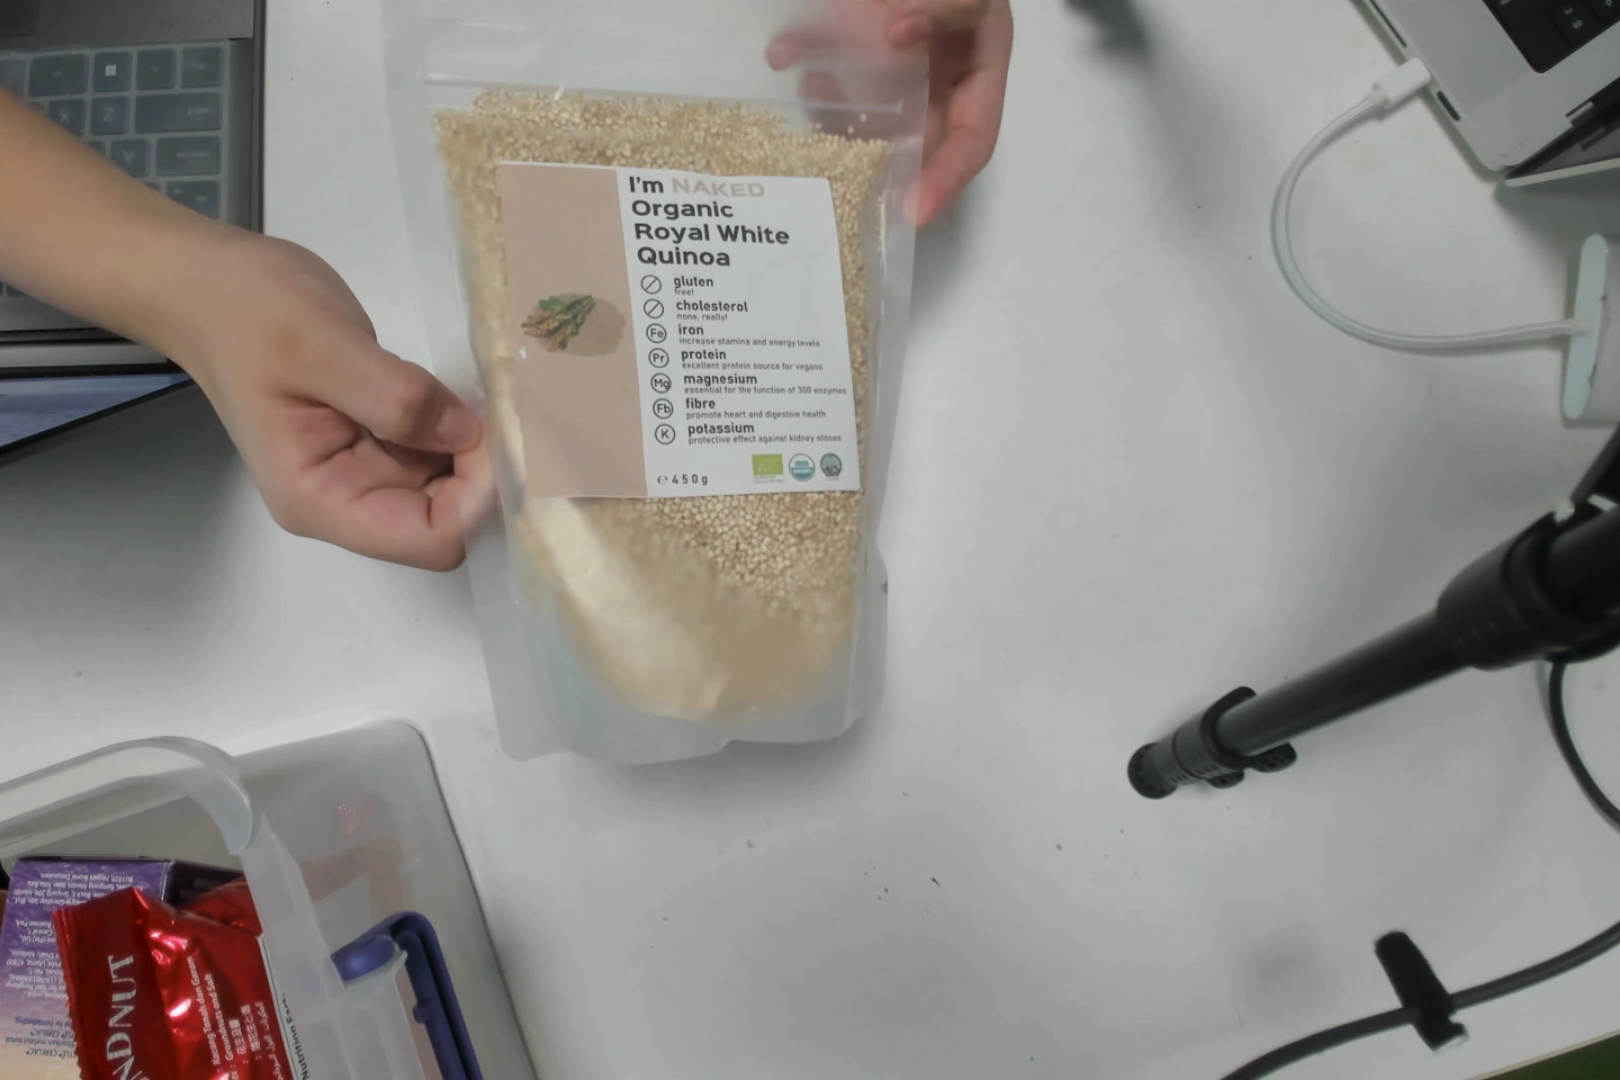Rice(brown-others)_400-499g_Halal_NonHealthy: (491, 80, 950, 769)
